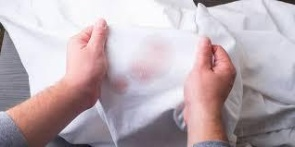wine: (129, 37, 179, 85), (108, 75, 136, 97)
